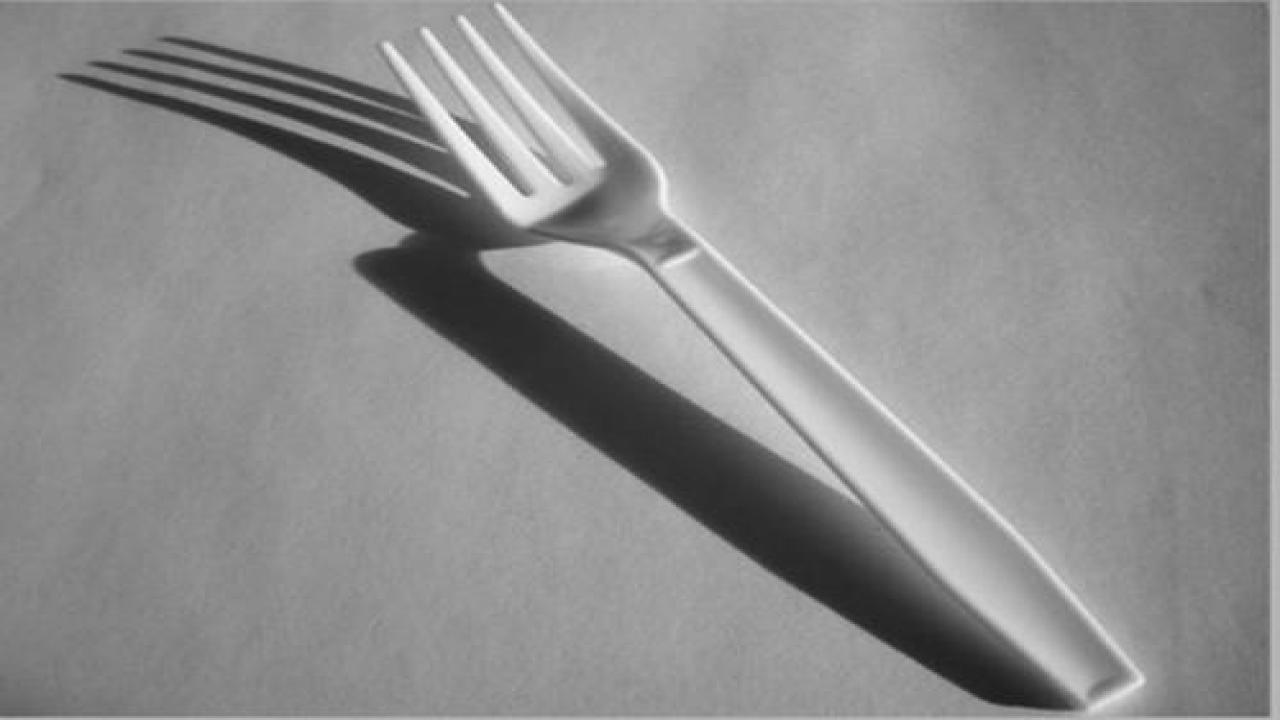fork: (374, 0, 1147, 710)
